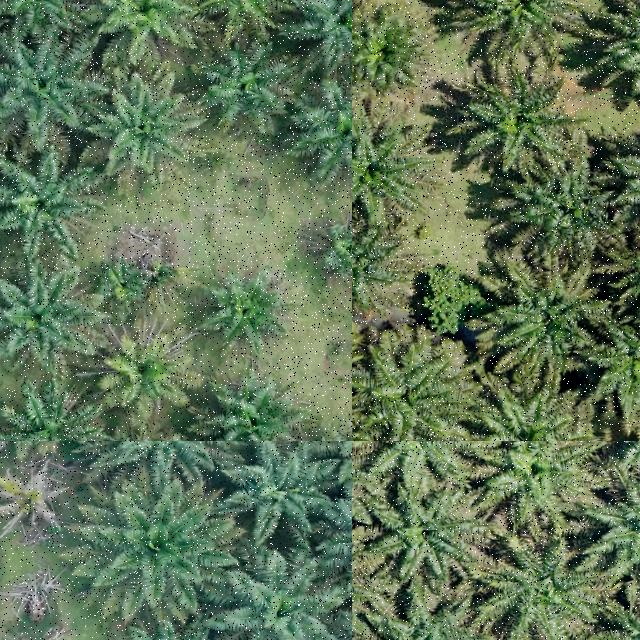Ganoderma: (108, 334, 179, 402), (0, 477, 59, 528)
